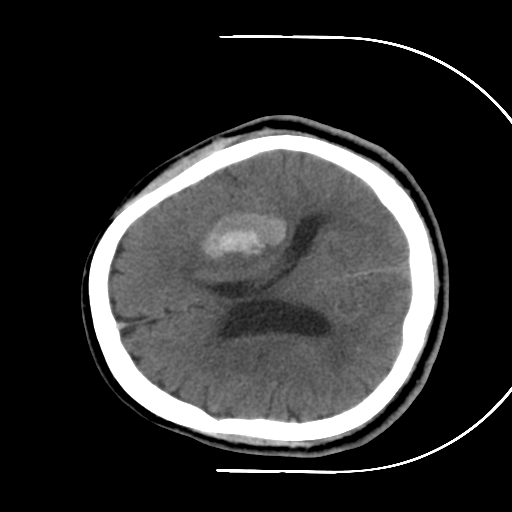a: (182, 198, 295, 284)
